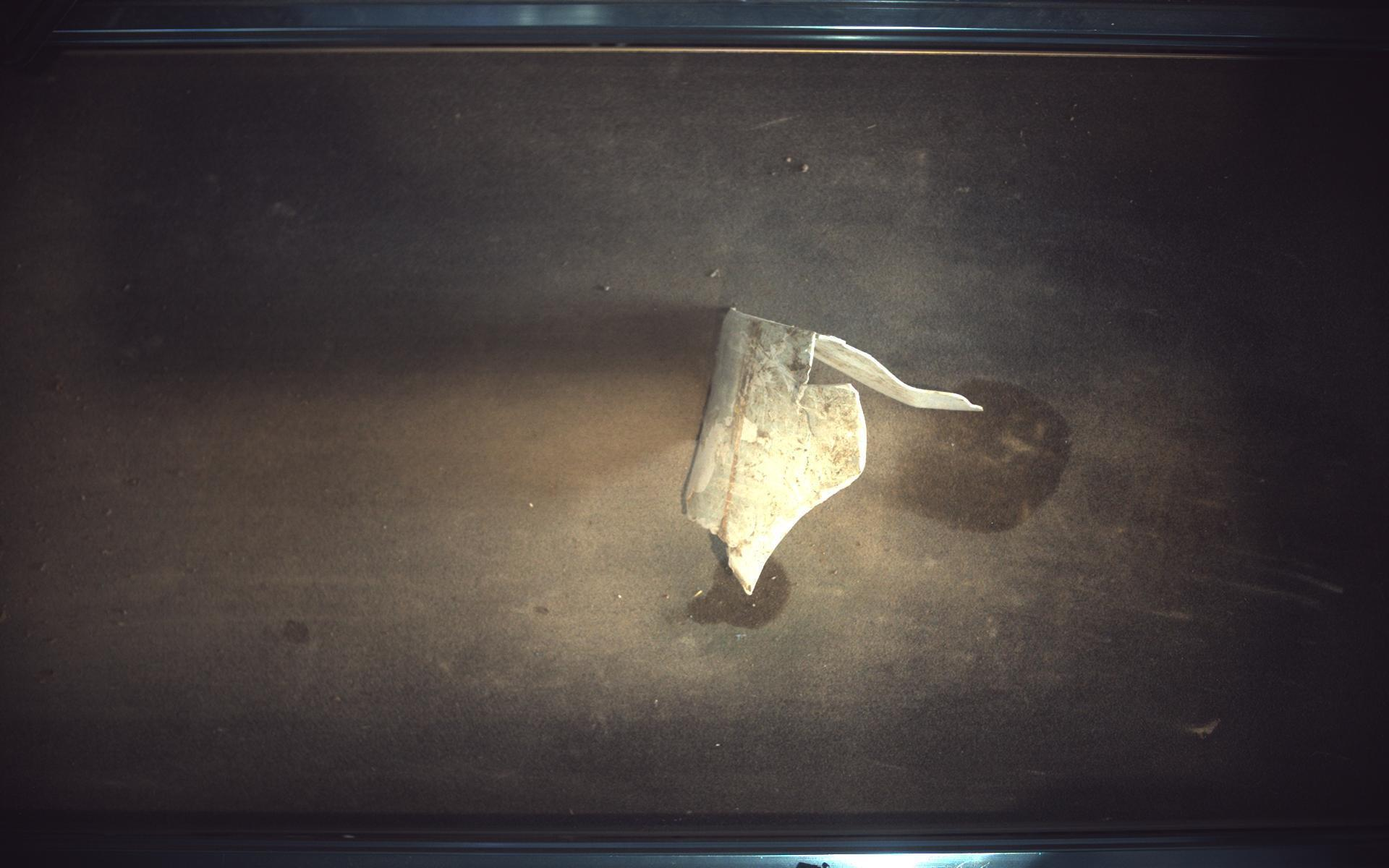plastic: (685, 309, 985, 595)
